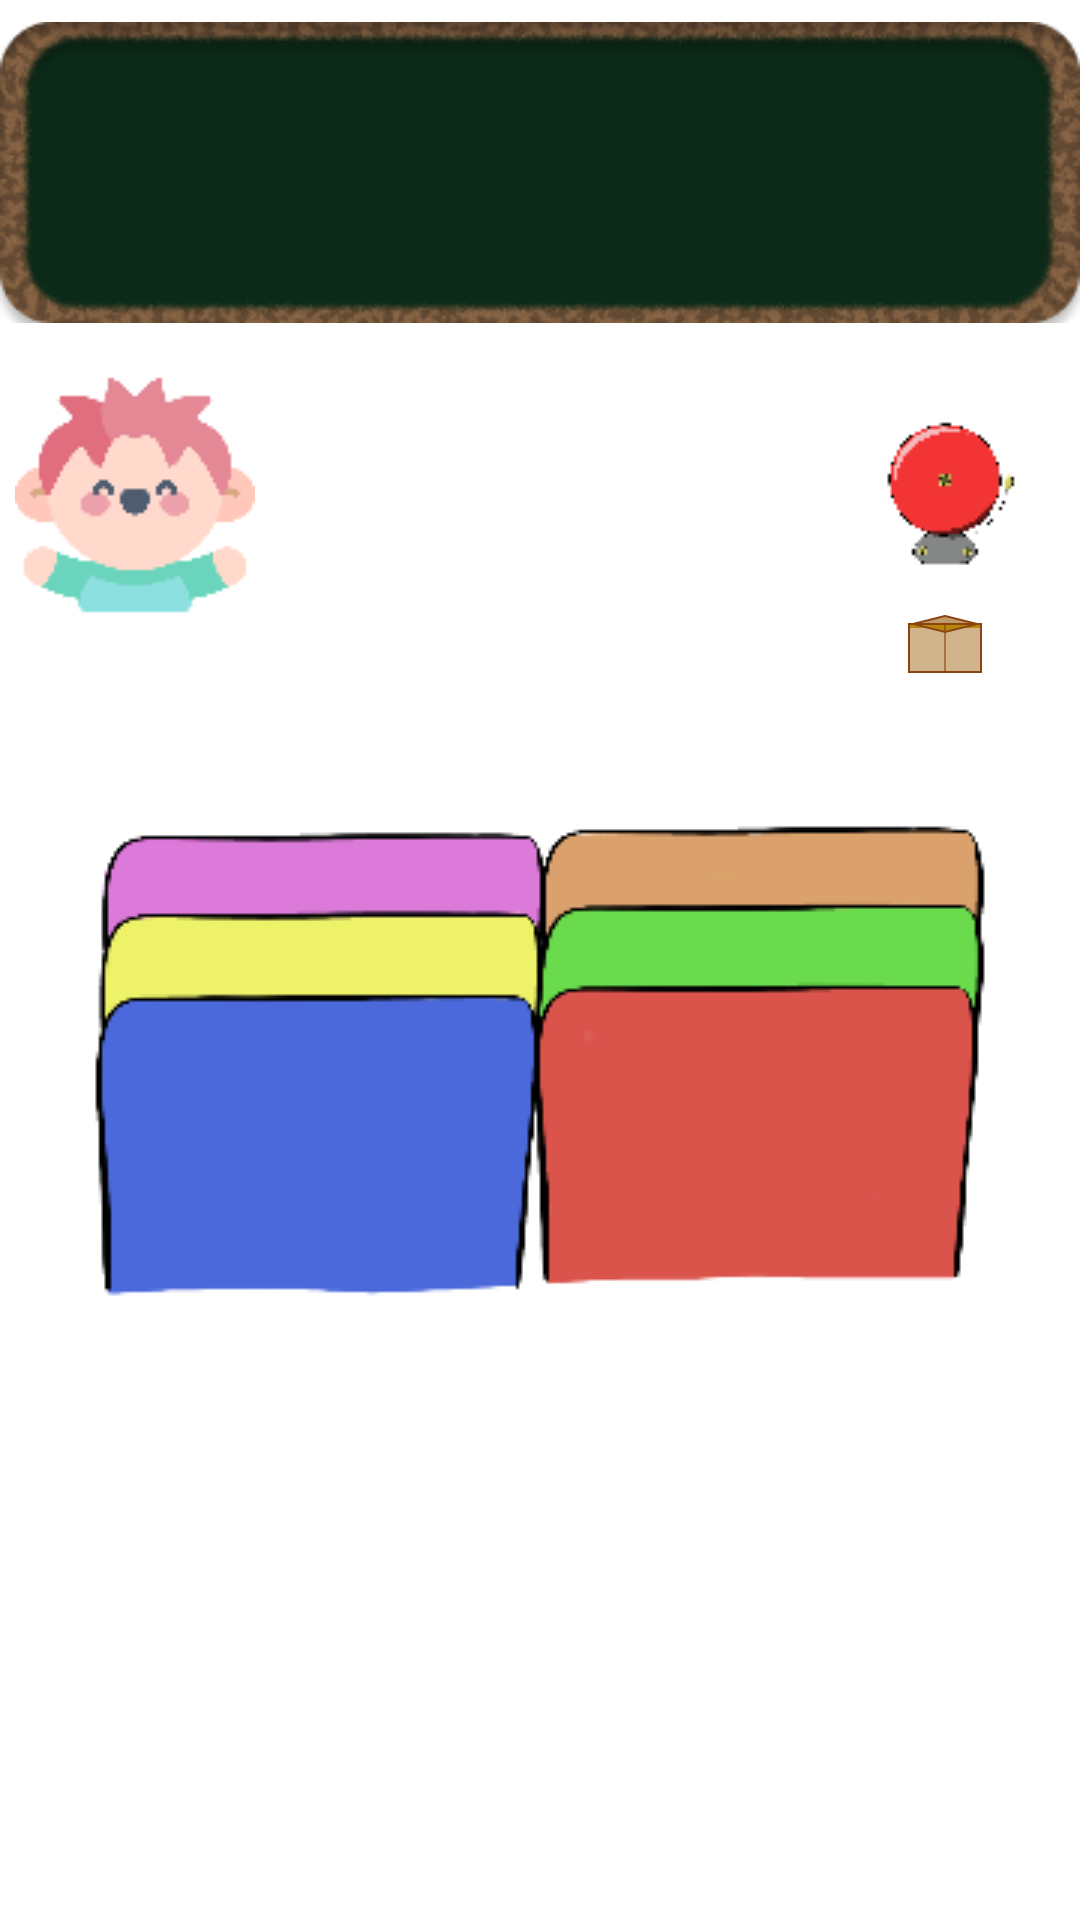

Icon click points for this 1080 x 1920 phone screenshot, format (x,y):
Notifications: (951,493)
Profile: (135,495)
